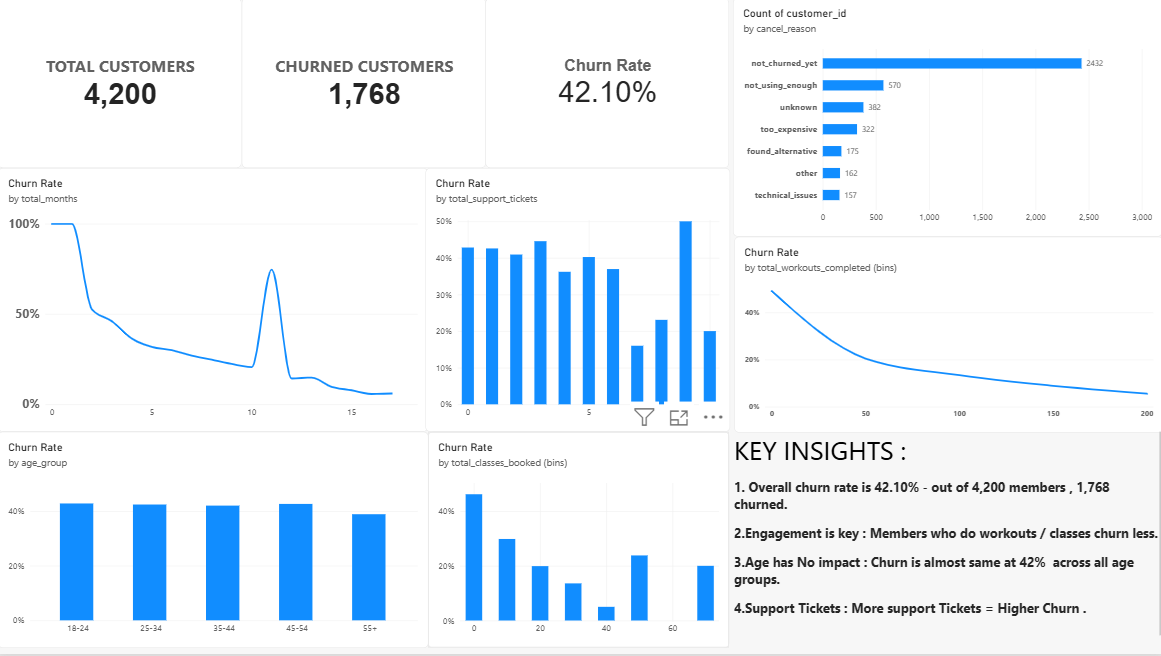

The page's visual inventory and layout, read from the dashboard file:
{"tool":"powerbi","page":{"name":"Page 1","canvas":[1920,1080],"ordinal":0},"visuals":[{"type":"cardVisual","fields":{"Data":["customer_churn_report.Churn Rate"]},"box":[803.5,0,401,280],"z":0},{"type":"clusteredBarChart","fields":{"Category":["customer_churn_report.cancel_reason"],"Y":["Count(customer_churn_report.customer_id)"]},"box":[1210.7,0,707.6,392.7],"z":1000},{"type":"cardVisual","fields":{"Data":["customer_churn_report.new customer id"]},"box":[0,0,401,280],"z":2000},{"type":"lineChart","fields":{"Category":["customer_churn_report.total_months"],"Y":["customer_churn_report.Churn Rate"]},"box":[0,280.5,708.1,434.3],"z":3000},{"type":"lineChart","fields":{"Category":["customer_churn_report.total_workouts_completed (bins)"],"Y":["customer_churn_report.Churn Rate"]},"box":[1212.5,392.7,707.6,322.1],"z":4000},{"type":"clusteredColumnChart","fields":{"Category":["customer_churn_report.total_support_tickets"],"Y":["customer_churn_report.Churn Rate"]},"box":[704,280.5,501.3,434.3],"z":5000},{"type":"clusteredColumnChart","fields":{"Category":["customer_churn_report.age_group"],"Y":["customer_churn_report.Churn Rate"]},"box":[0,714,708.6,355.7],"z":6000},{"type":"clusteredColumnChart","fields":{"Category":["customer_churn_report.total_classes_booked (bins)"],"Y":["customer_churn_report.Churn Rate"]},"box":[708,714,496,356],"z":7000},{"type":"cardVisual","fields":{"Data":["customer_churn_report.CHURNED CUSTOMERS"]},"box":[402,0,402,280],"z":8000},{"type":"textbox","box":[1212,715,708,355],"z":8001}]}

Visuals, with their boxes in screenshot pixels (x1, y1, x2, y2), scaled from the page's 1920x1080 canvas onto the 1161x656 screenshot:
cardVisual - customer_churn_report.Churn Rate: [486,0,728,170]
clusteredBarChart - customer_churn_report.cancel_reason x Count(customer_churn_report.customer_id): [732,0,1160,239]
cardVisual - customer_churn_report.new customer id: [0,0,242,170]
lineChart - customer_churn_report.total_months x customer_churn_report.Churn Rate: [0,170,428,434]
lineChart - customer_churn_report.total_workouts_completed (bins) x customer_churn_report.Churn Rate: [733,239,1160,434]
clusteredColumnChart - customer_churn_report.total_support_tickets x customer_churn_report.Churn Rate: [426,170,729,434]
clusteredColumnChart - customer_churn_report.age_group x customer_churn_report.Churn Rate: [0,434,428,650]
clusteredColumnChart - customer_churn_report.total_classes_booked (bins) x customer_churn_report.Churn Rate: [428,434,728,650]
cardVisual - customer_churn_report.CHURNED CUSTOMERS: [243,0,486,170]
textbox: [733,434,1160,650]
